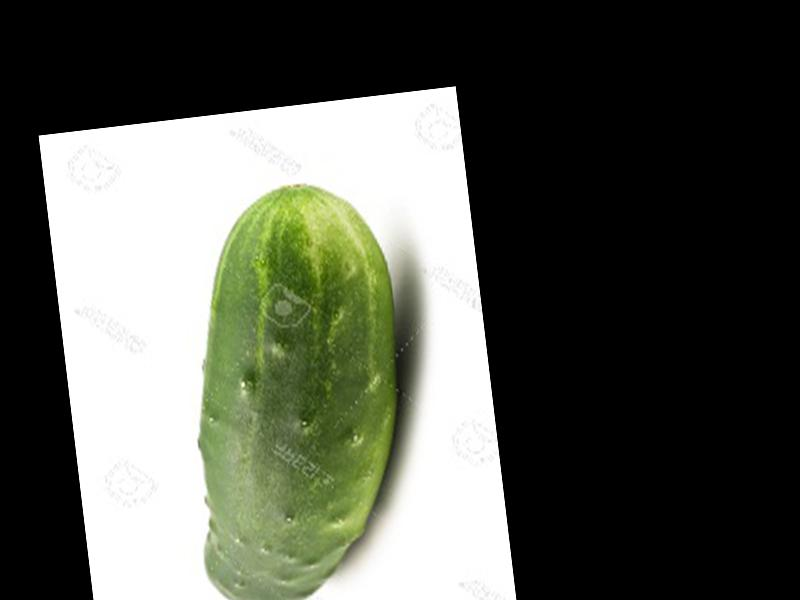Cucumber: (162, 174, 429, 600)
